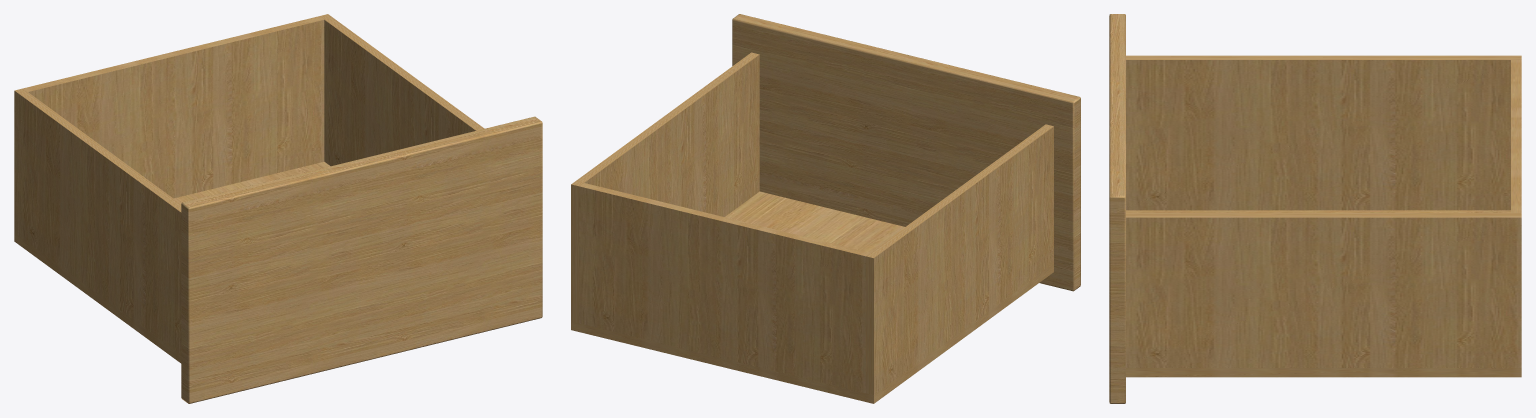
3 renders of one model, left to right at view 1: azimuth 30°, elevation 25°; view 2: azimuth 150°, elevation 25°; view 3: azimuth 270°, elevation 25°, orthographic. The views are drawn at different scales.
Visible parts, largest first — view 1: part7:drawer 1; view 2: part7:drawer 1; view 3: part7:drawer 1.
Part boxes in pixels (x1,y1,x2,y2): part7:drawer 1: (14,14,542,403); part7:drawer 1: (571,14,1080,403); part7:drawer 1: (1109,14,1521,403).
Bounding box in the file's own units: 0.513 × 0.272 × 0.4881.
Materials: 1 (1 with a texture image).
